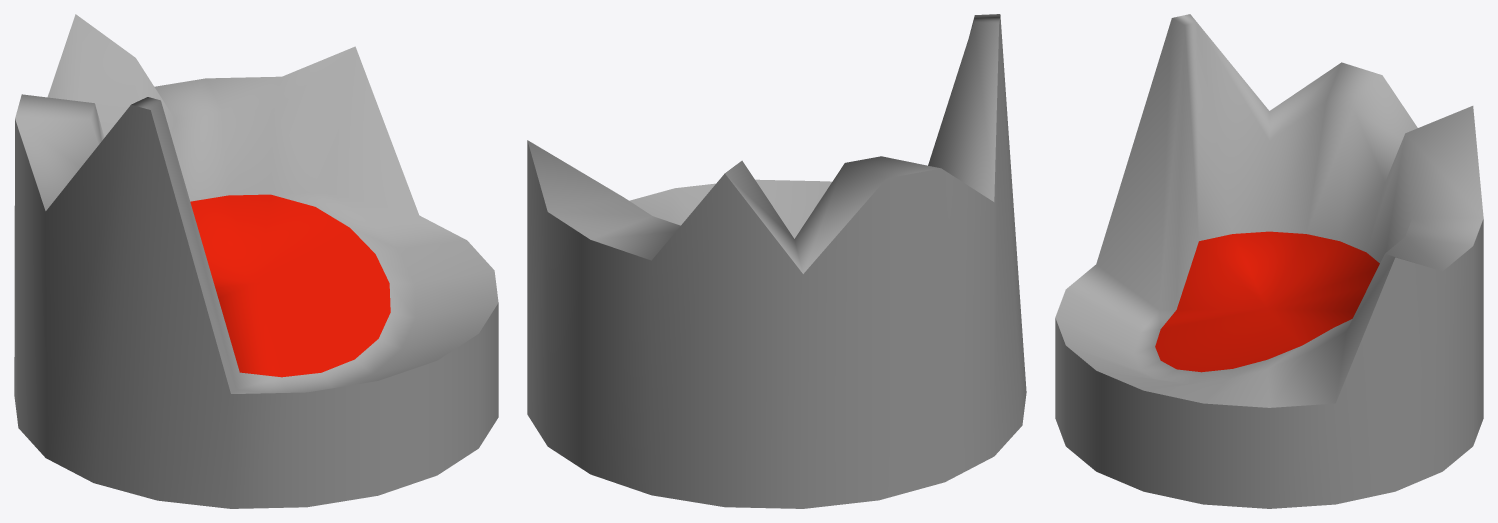
The model's file is MiniVulkan.fbx.
The picture shows the model from 3 angles, left to right: view 1: azimuth 30°, elevation 25°; view 2: azimuth 150°, elevation 25°; view 3: azimuth 270°, elevation 25°; orthographic projection. The views are drawn at different scales.
Parts seen in each view (by area): view 1: pCylinder1; view 2: pCylinder1; view 3: pCylinder1.
Part boxes in pixels (<box>): pCylinder1: <box>14,14,498,508</box>; pCylinder1: <box>527,14,1026,508</box>; pCylinder1: <box>1055,14,1483,508</box>.
Size of the model in its own units: 2 by 1.71 by 2.
